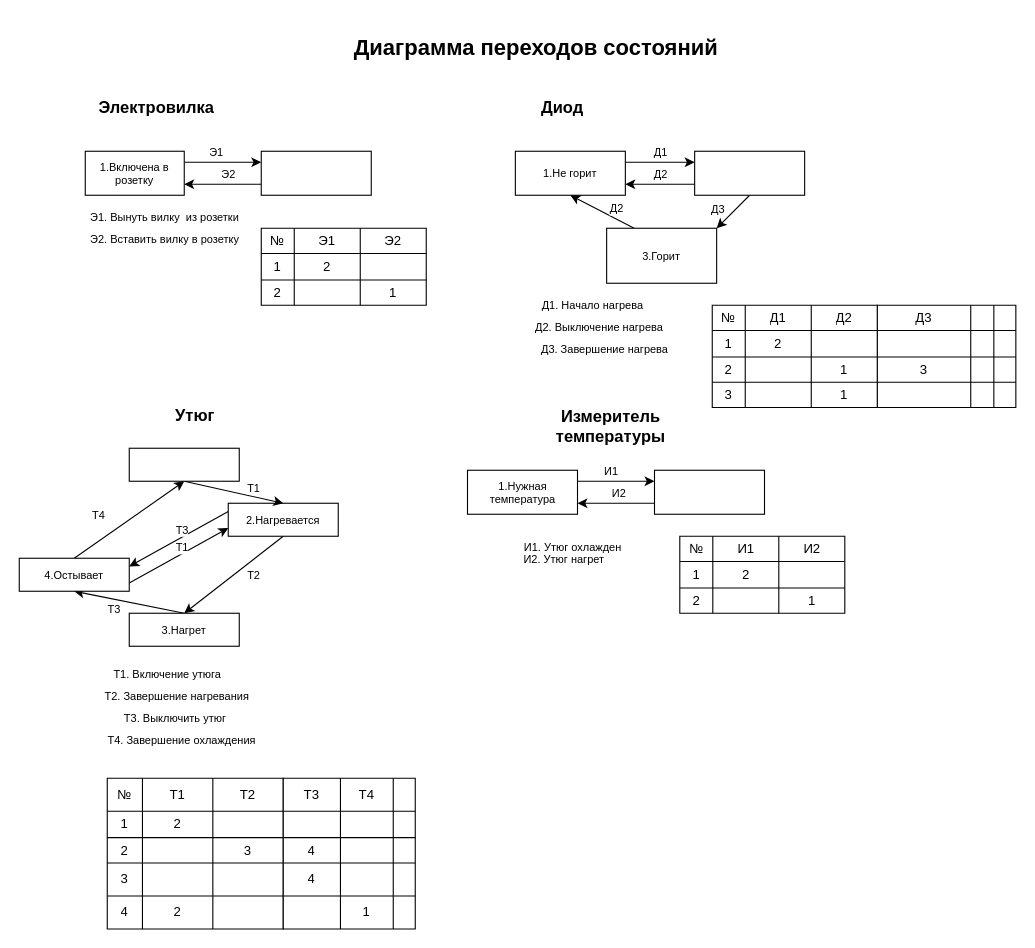
Some shapes in this 1035 by 948 pixel diagram are drawn without their labels. Here are the shapes that lost their labels. From the top down, the centre of each, then its label:
At point 315,172: "2.Выключена из розетки".
At point 749,172: "2.Мигает".
At point 183,464: "1.Не нагрет".
At point 709,491: "2.Недостаточная температура".
